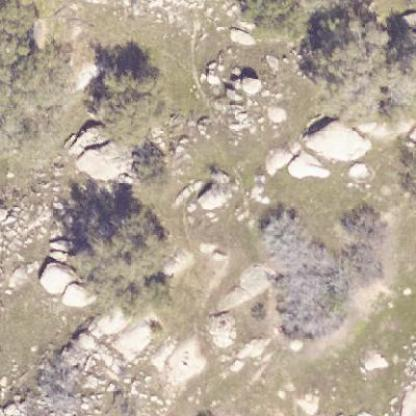tree-top: (257, 205, 392, 340), (51, 190, 180, 320), (303, 0, 415, 127), (0, 0, 65, 137), (88, 63, 176, 144), (227, 0, 309, 44)
